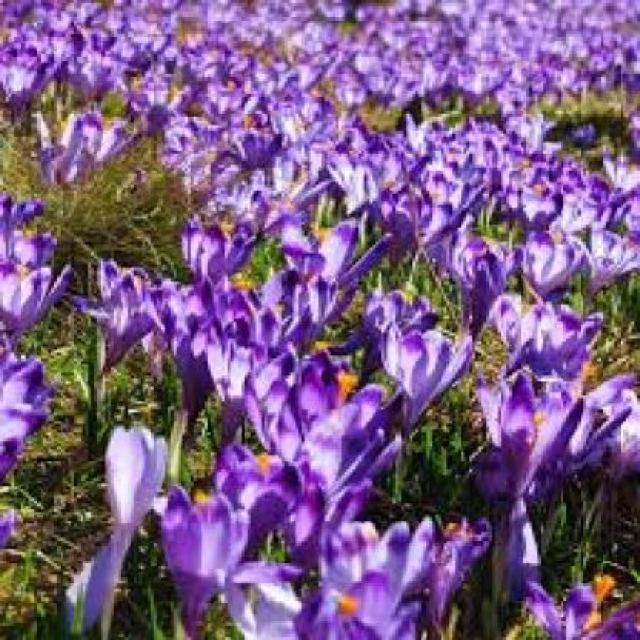Flower: (154, 491, 252, 618), (384, 322, 474, 432), (164, 305, 248, 413), (105, 424, 167, 548)
